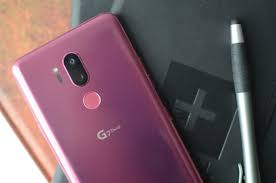lg: (11, 12, 200, 183)
